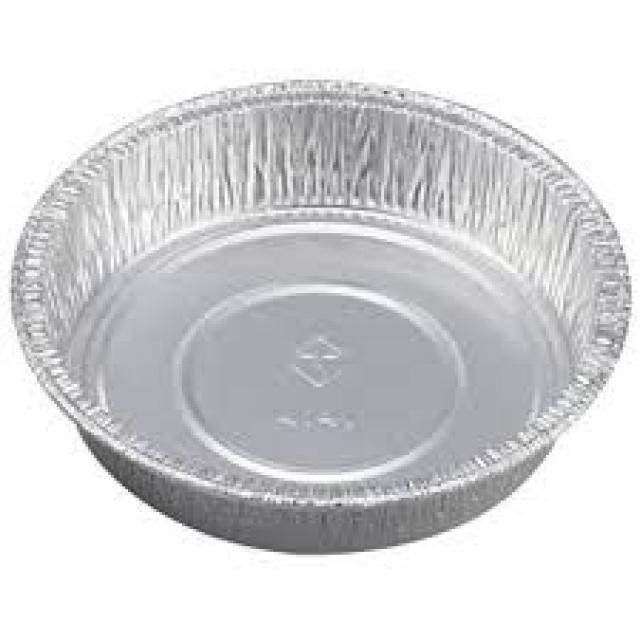metal: (9, 80, 634, 558)
